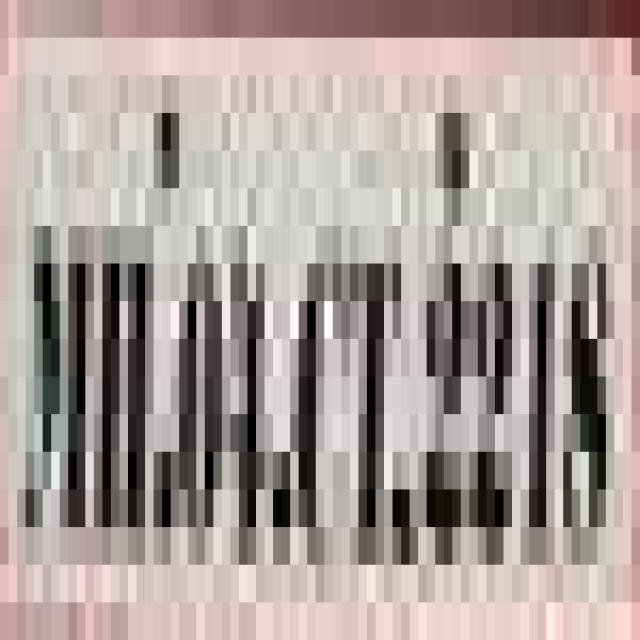license_plate: (0, 37, 606, 640)
